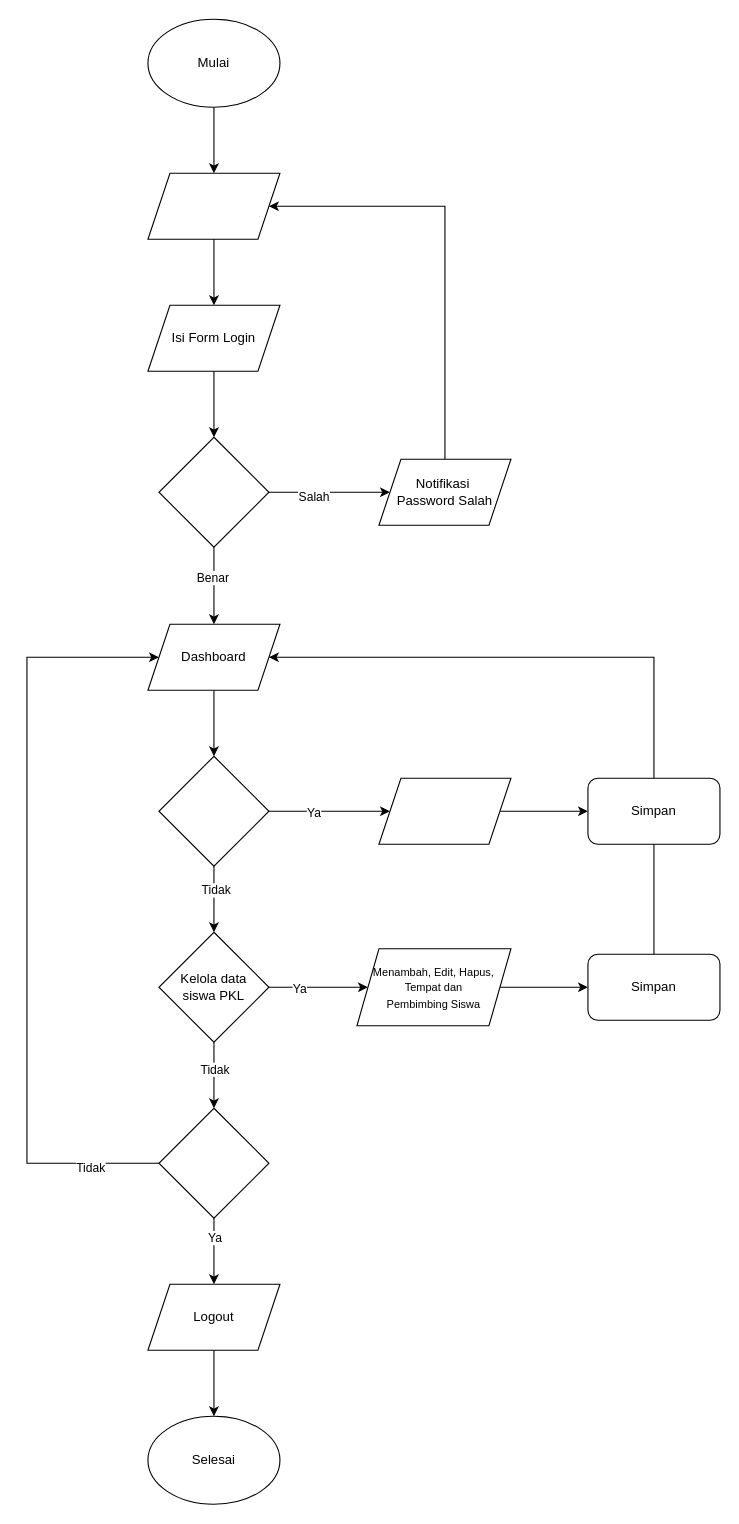
This 739x1524 diagram has some shape labels left out. The centre of each missing label's shape, as x and y in pixels:
"Ingin Logout?" goes at (x=213, y=1162).
"Kelola Akun" goes at (x=213, y=810).
"Login" goes at (x=213, y=205).
"Menambahkan, Edit, Hapus Akun" goes at (x=444, y=810).
"Verifikasi" goes at (x=213, y=491).
